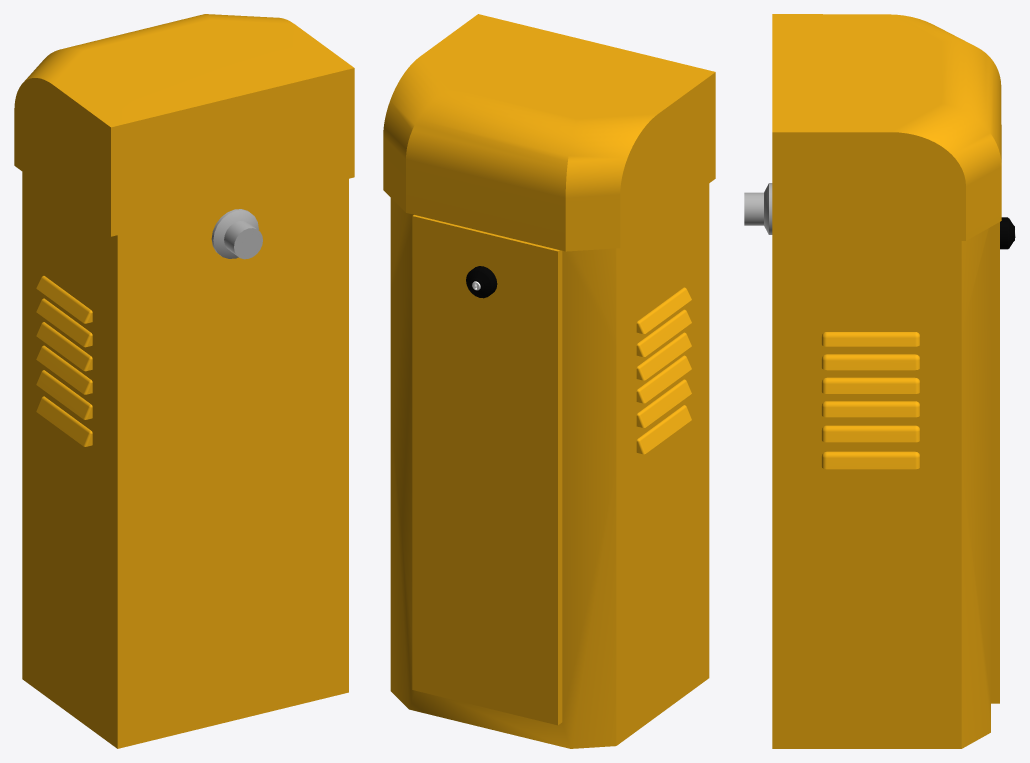
File: barrier_cabinet.glb
3 views of the same model, side by side, from view 1: azimuth 30°, elevation 25°; view 2: azimuth 150°, elevation 25°; view 3: azimuth 270°, elevation 25° (orthographic). The views are drawn at different scales.
Visible parts, largest first — view 1: pCube1_lambert2_0, pCube2_lambert2_0, pCylinder1_lambert4_0, pCylinder2_lambert4_0; view 2: pCube1_lambert2_0, pCube2_lambert2_0, Key_Hole_01_lambert6_0; view 3: pCube1_lambert2_0, pCube2_lambert2_0, pCylinder1_lambert4_0.
Part boxes in pixels (box(x1,y1,x2,y2)): pCube1_lambert2_0: box(22, 159, 348, 748); pCube2_lambert2_0: box(14, 14, 354, 236); pCylinder1_lambert4_0: box(224, 221, 262, 259); pCylinder2_lambert4_0: box(211, 209, 258, 258); pCube1_lambert2_0: box(390, 183, 709, 748); pCube2_lambert2_0: box(383, 14, 715, 251); Key_Hole_01_lambert6_0: box(466, 266, 497, 298); pCube1_lambert2_0: box(772, 222, 999, 748); pCube2_lambert2_0: box(772, 14, 1001, 240); pCylinder1_lambert4_0: box(744, 192, 763, 225).
Bounding box in the file's own units: 0.4786 × 1.15 × 0.4564.
